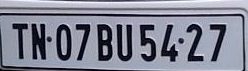0: (55, 24, 72, 61)
2: (184, 23, 204, 63)
4: (159, 24, 179, 63)
5: (138, 24, 157, 62)
7: (208, 23, 227, 63), (73, 23, 92, 61)
B: (96, 23, 114, 62)
N: (29, 23, 47, 61)
T: (11, 23, 28, 60)
U: (115, 23, 134, 62)
